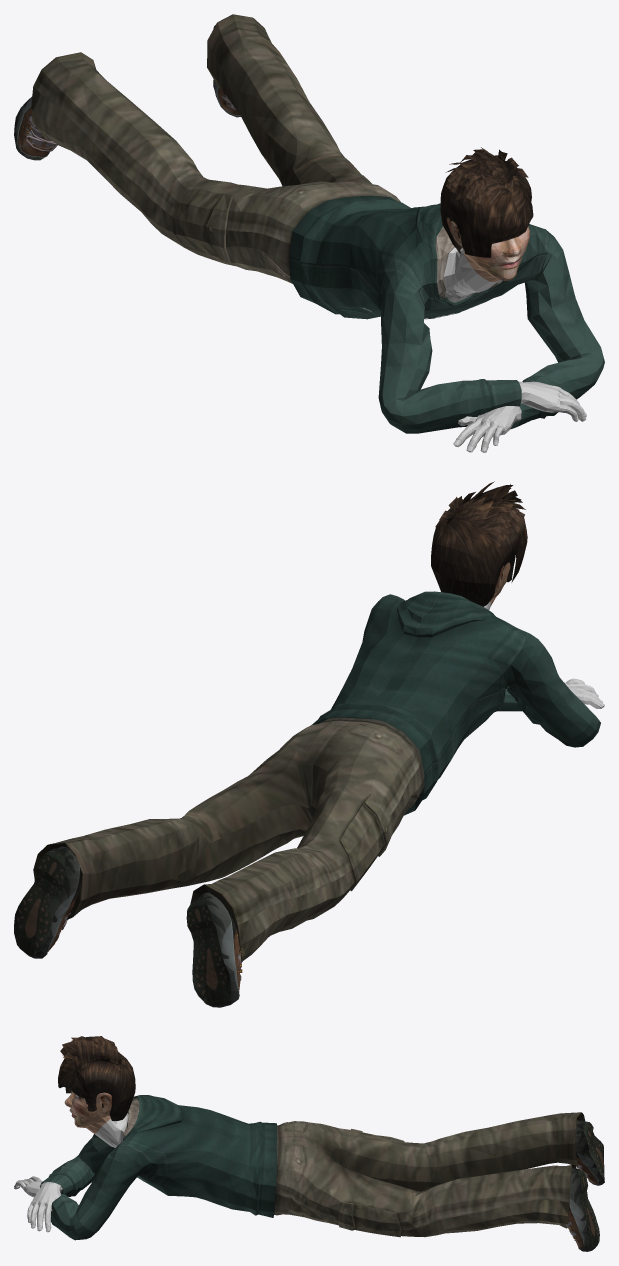
File: boyLying.obj
The picture shows the model from 3 angles, top to bottom: view 1: azimuth 30°, elevation 25°; view 2: azimuth 150°, elevation 25°; view 3: azimuth 270°, elevation 25°; orthographic projection. The views are drawn at different scales.
Parts seen in each view (by area): view 1: RL_Lower.001, RL_Upper.001, RL_HairMesh.001, RL_Hands.001, RL_Face.001, RL_Shoes.001; view 2: RL_Lower.001, RL_Upper.001, RL_Shoes.001, RL_HairMesh.001; view 3: RL_Lower.001, RL_Upper.001, RL_HairMesh.001, RL_Shoes.001, RL_Hands.001, RL_Face.001.
Part boxes in pixels (<box>): RL_Lower.001: <box>31,14,400,283</box>; RL_Upper.001: <box>289,196,604,433</box>; RL_HairMesh.001: <box>440,147,533,257</box>; RL_Hands.001: <box>453,381,586,452</box>; RL_Face.001: <box>446,217,530,281</box>; RL_Shoes.001: <box>14,25,240,160</box>; RL_Lower.001: <box>33,717,424,962</box>; RL_Upper.001: <box>312,591,600,815</box>; RL_Shoes.001: <box>14,846,242,1007</box>; RL_HairMesh.001: <box>431,481,527,606</box>; RL_Lower.001: <box>274,1112,585,1237</box>; RL_Upper.001: <box>40,1095,276,1240</box>; RL_HairMesh.001: <box>58,1036,135,1120</box>; RL_Shoes.001: <box>565,1120,604,1251</box>; RL_Hands.001: <box>14,1176,60,1232</box>; RL_Face.001: <box>64,1091,111,1133</box>.
Size of the model in its own units: 54.46 by 53.76 by 166.
